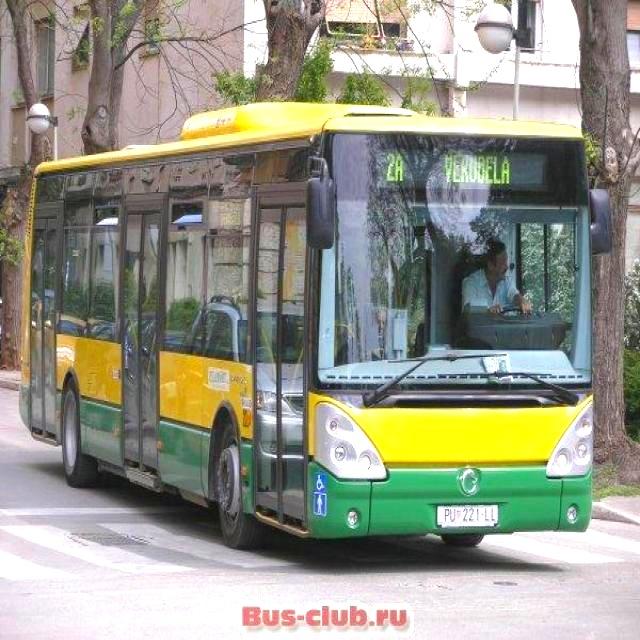bus: (13, 79, 628, 570)
